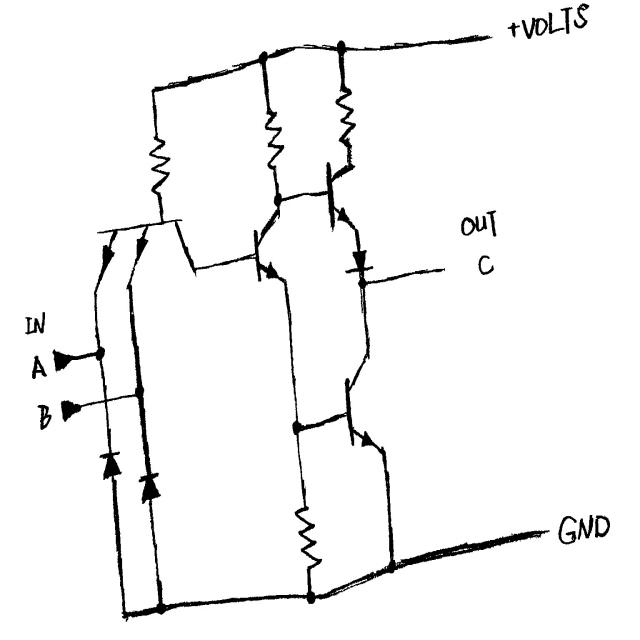crossover: (102, 394, 110, 405)
diode: (97, 445, 126, 488), (136, 469, 165, 505), (344, 248, 375, 274)
junction: (90, 339, 110, 363), (131, 378, 148, 406), (383, 553, 402, 578), (118, 599, 135, 626), (291, 413, 305, 443), (255, 47, 272, 71), (334, 36, 349, 62), (302, 587, 320, 607), (146, 79, 162, 101), (270, 190, 287, 209), (154, 601, 172, 617), (357, 276, 371, 293)
resistor: (292, 498, 326, 575), (261, 104, 288, 175), (332, 81, 359, 150), (147, 129, 173, 200)
terminal: (525, 514, 555, 543), (59, 397, 85, 423), (431, 255, 456, 282), (51, 347, 75, 373), (477, 25, 499, 50)
text: (522, 2, 594, 41), (557, 511, 610, 547), (459, 208, 499, 242), (20, 308, 48, 338), (28, 353, 48, 382), (476, 252, 497, 279), (37, 401, 53, 432), (506, 19, 520, 38)
transistor: (89, 212, 200, 299), (335, 344, 392, 459), (246, 209, 293, 292), (319, 157, 363, 235)
